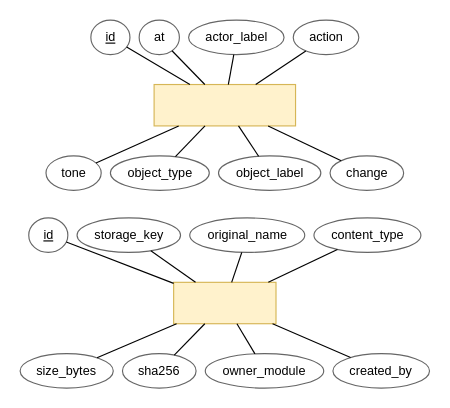
Image size: 450x408. Some labels were removed from this diagram. The box of each missing label's shape, as (x1, y1, x2, y2) in pixels:
shared_audit_log: (153, 83, 296, 126)
shared_file: (172, 281, 276, 324)
